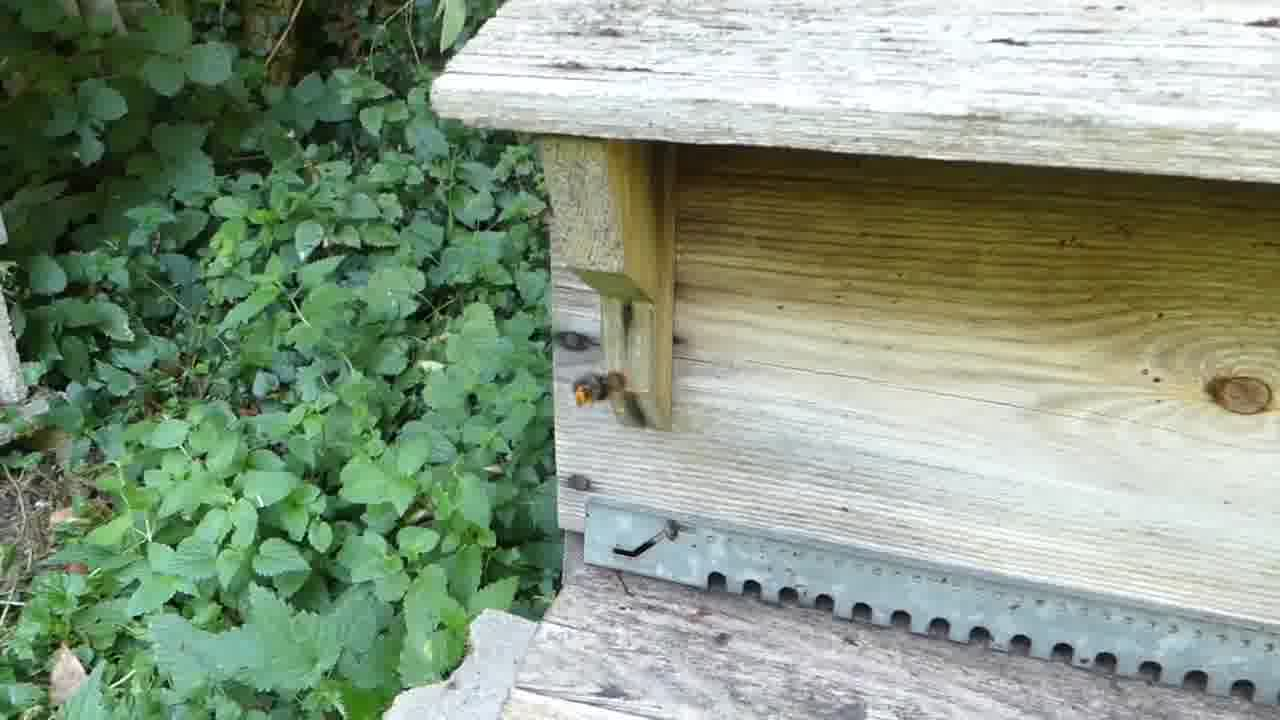hornet: (569, 373, 637, 408)
